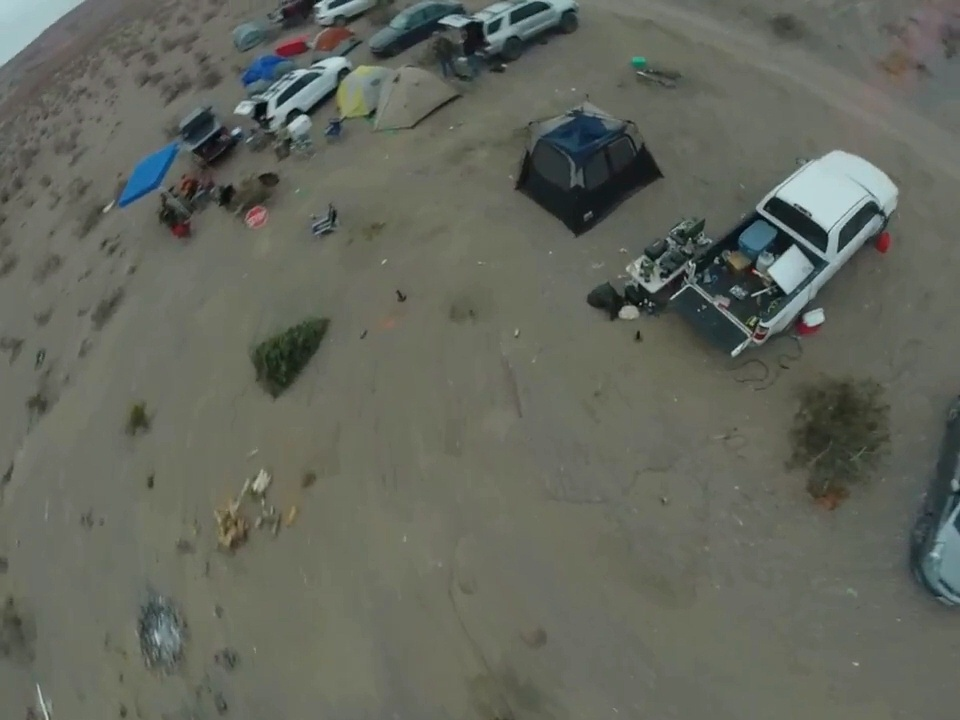kamyonet: (683, 147, 906, 351)
